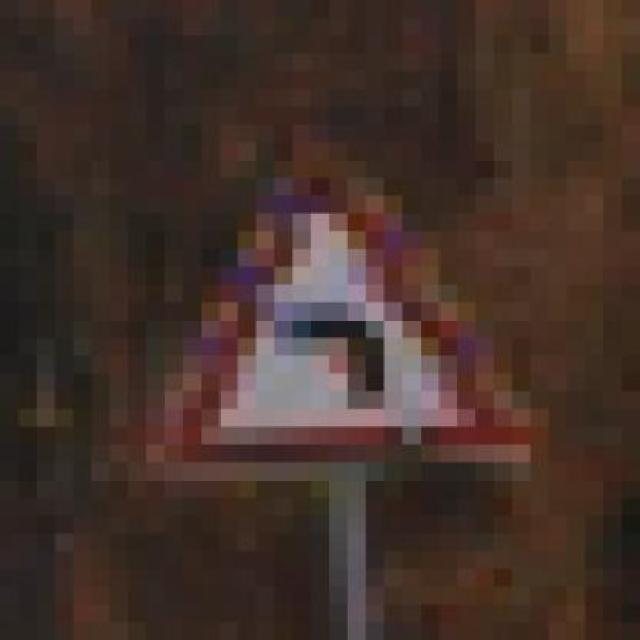Dangerous Left Curve Ahead: (110, 106, 567, 480)
